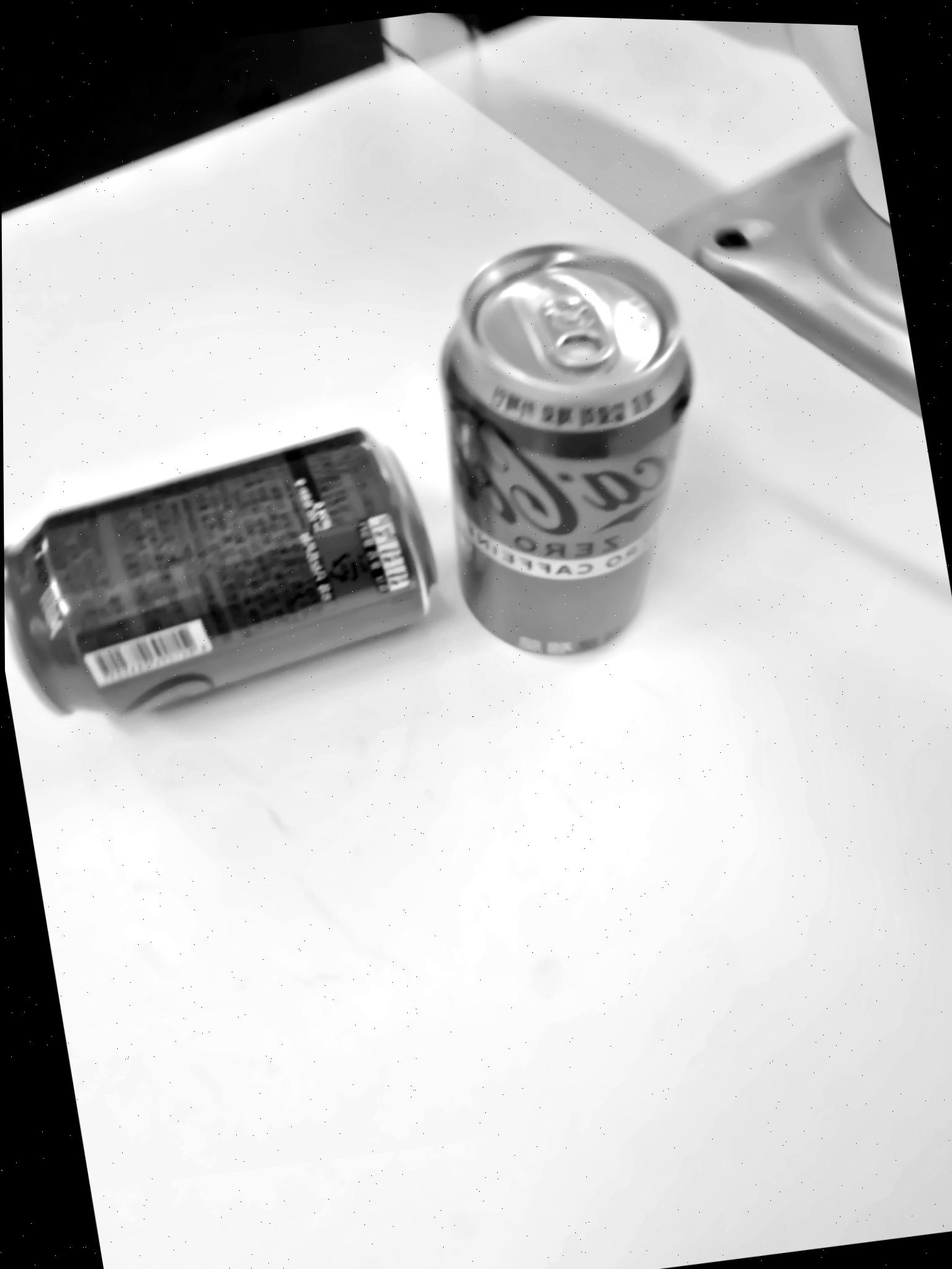can_coke_decaf: (440, 238, 689, 660)
can_coke_zero: (4, 425, 438, 723)
